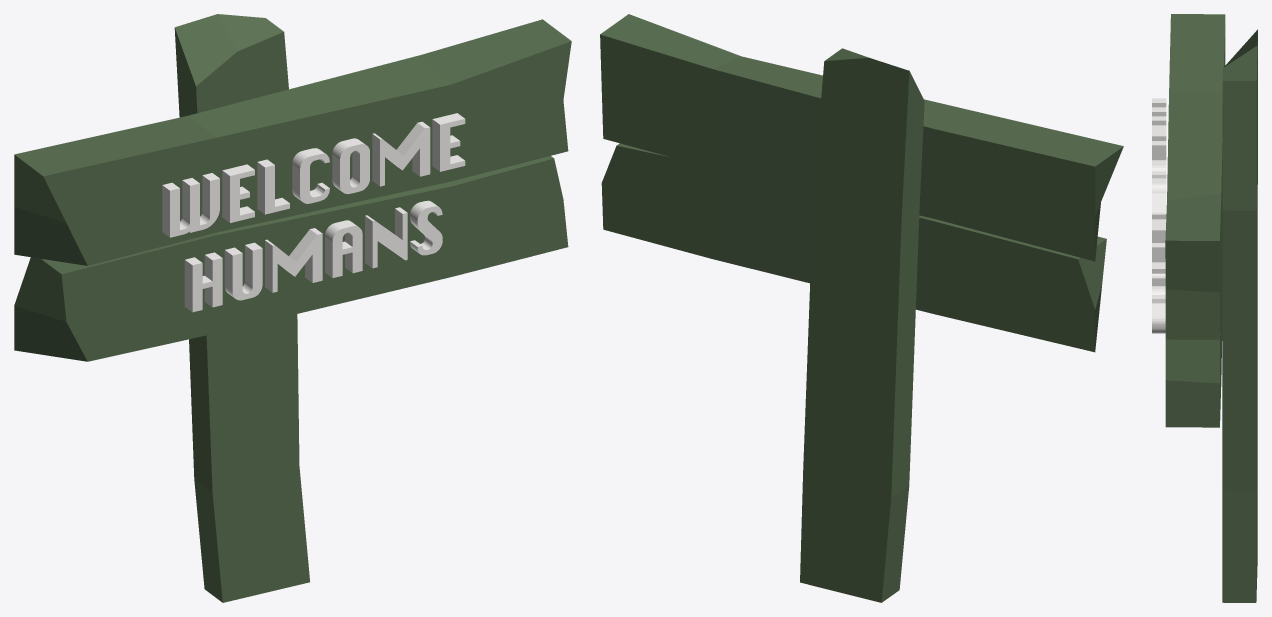
File: Sign_3.fbx
The picture shows the model from 3 angles, left to right: view 1: azimuth 30°, elevation 25°; view 2: azimuth 150°, elevation 25°; view 3: azimuth 270°, elevation 25°; orthographic projection. The views are drawn at different scales.
Parts seen in each view (by area): view 1: Sign_3; view 2: Sign_3; view 3: Sign_3.
Boxes of the visible parts, <box> form: Sign_3: <box>14,14,571,602</box>; Sign_3: <box>600,14,1123,602</box>; Sign_3: <box>1152,14,1257,602</box>.
Size of the model in its own units: 308 by 58.63 by 320.
